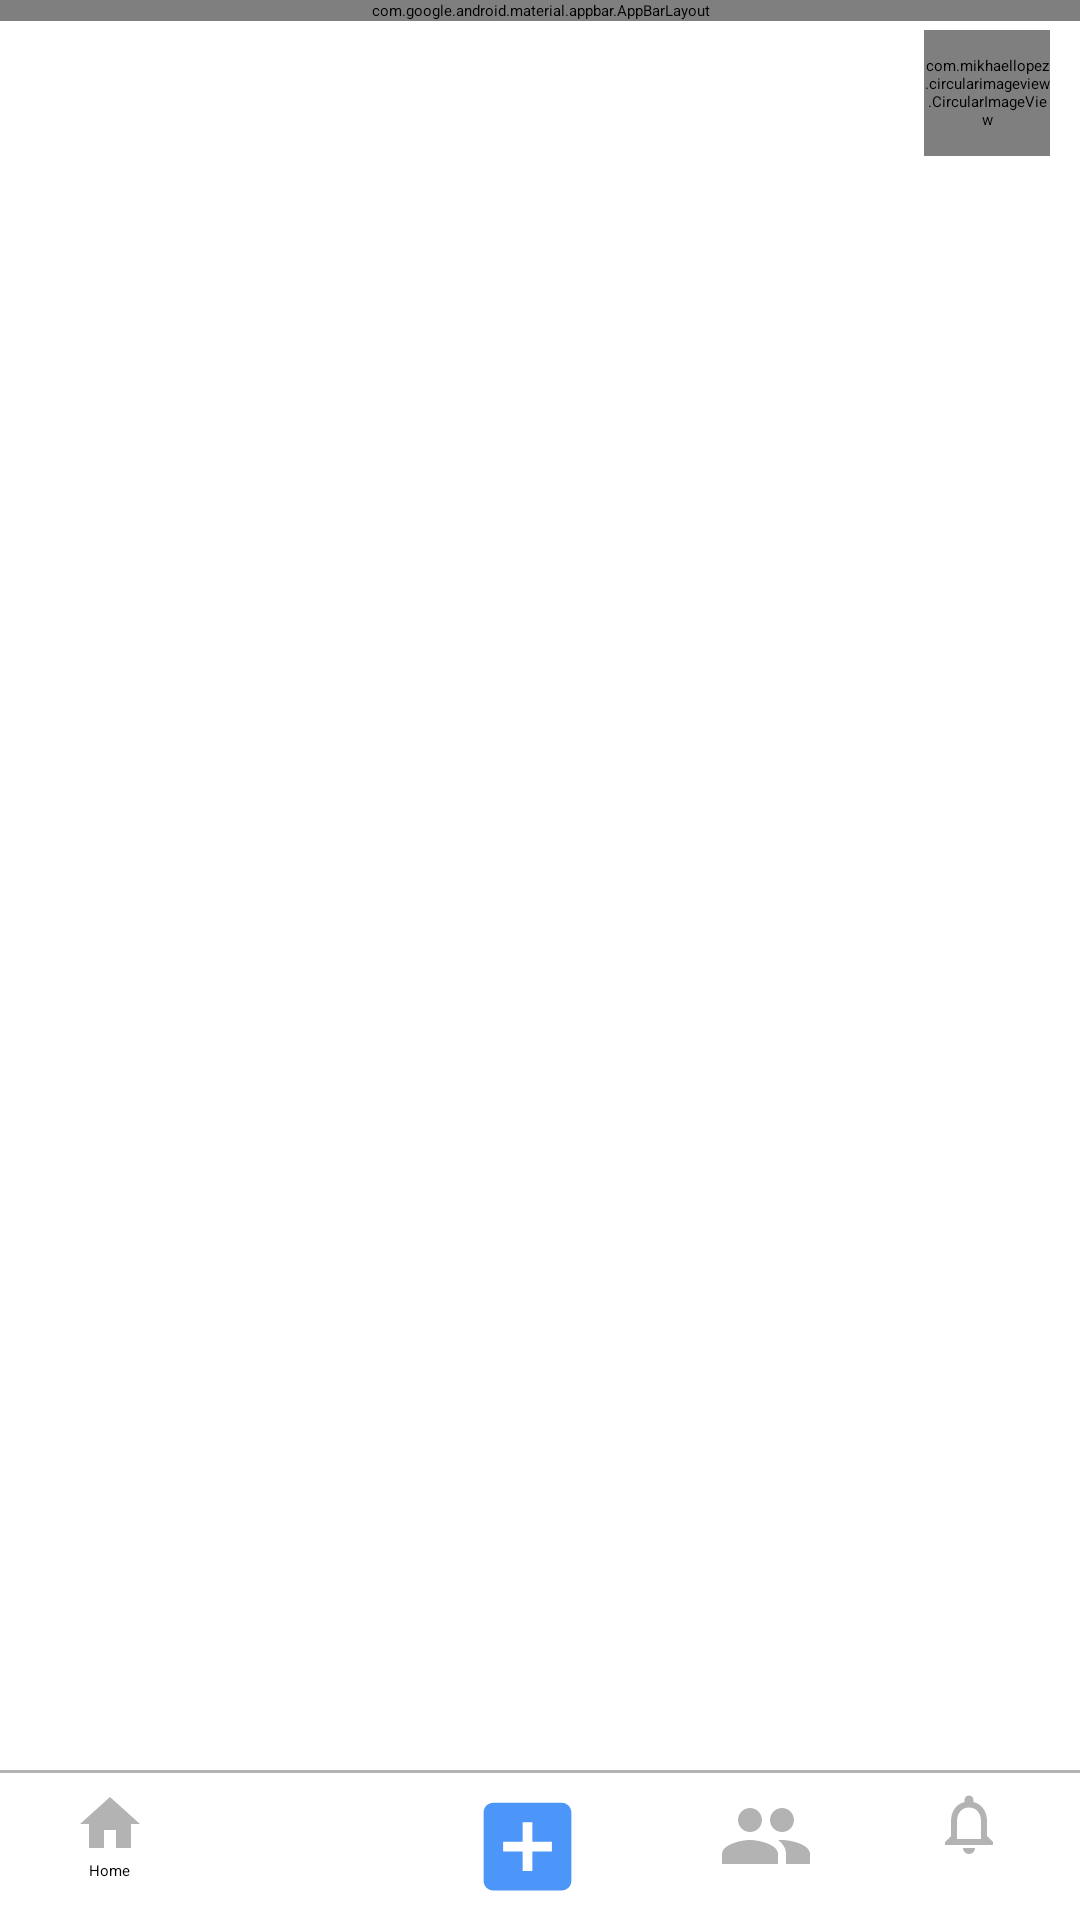

Named icons in this screenshot (1080w x 1920h) and their centers, (x=x, y=y):
add box: (x=527, y=1846)
notifications none: (x=969, y=1824)
